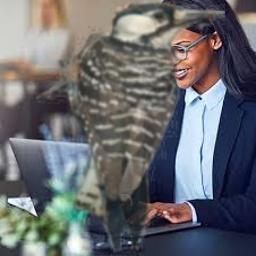Woodpecker: (36, 0, 225, 256)
